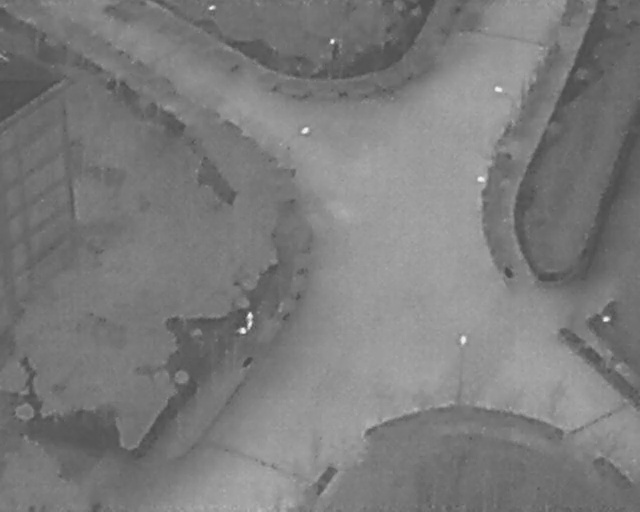Person: (246, 311, 254, 330)
